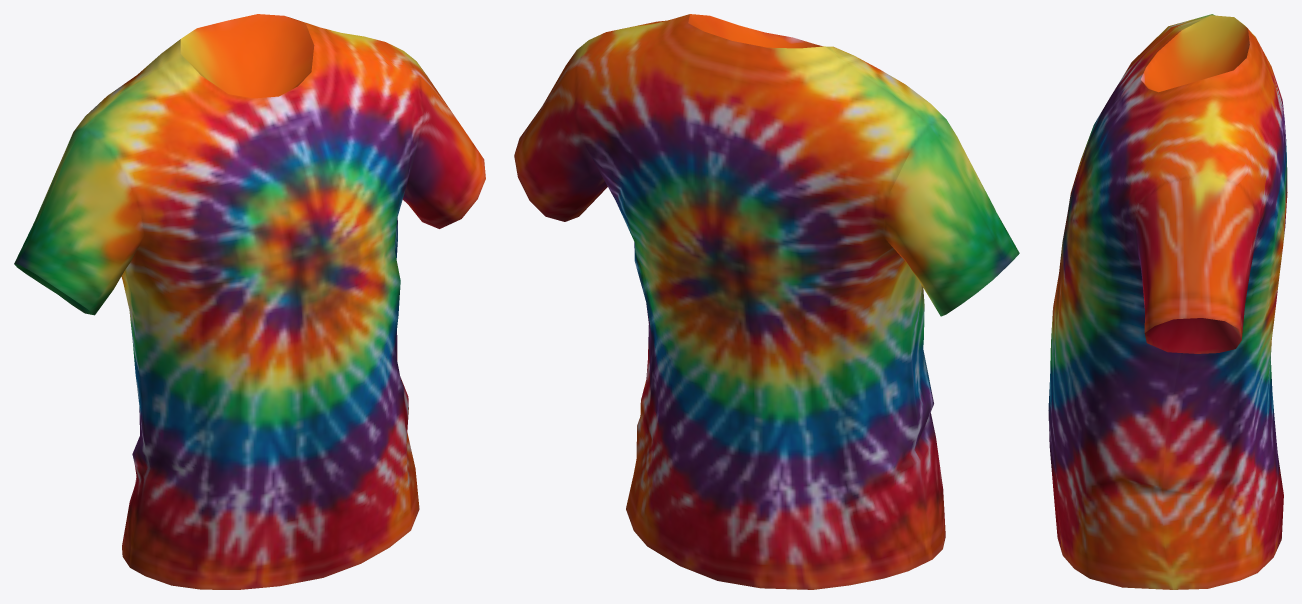
File: Tshirt-model.fbx
3 views of the same model, side by side, from view 1: azimuth 30°, elevation 25°; view 2: azimuth 150°, elevation 25°; view 3: azimuth 270°, elevation 25° (orthographic). The views are drawn at different scales.
Visible parts, largest first — view 1: TShirt_TyeDye_001; view 2: TShirt_TyeDye_001; view 3: TShirt_TyeDye_001.
Part boxes in pixels (left/top/right/bottom): TShirt_TyeDye_001: left=14, top=14, right=485, bottom=589; TShirt_TyeDye_001: left=514, top=14, right=1019, bottom=589; TShirt_TyeDye_001: left=1048, top=14, right=1287, bottom=589.
Bounding box in the file's own units: 1.67 × 1.73 × 0.7545.
Materials: 1 (1 with a texture image).
